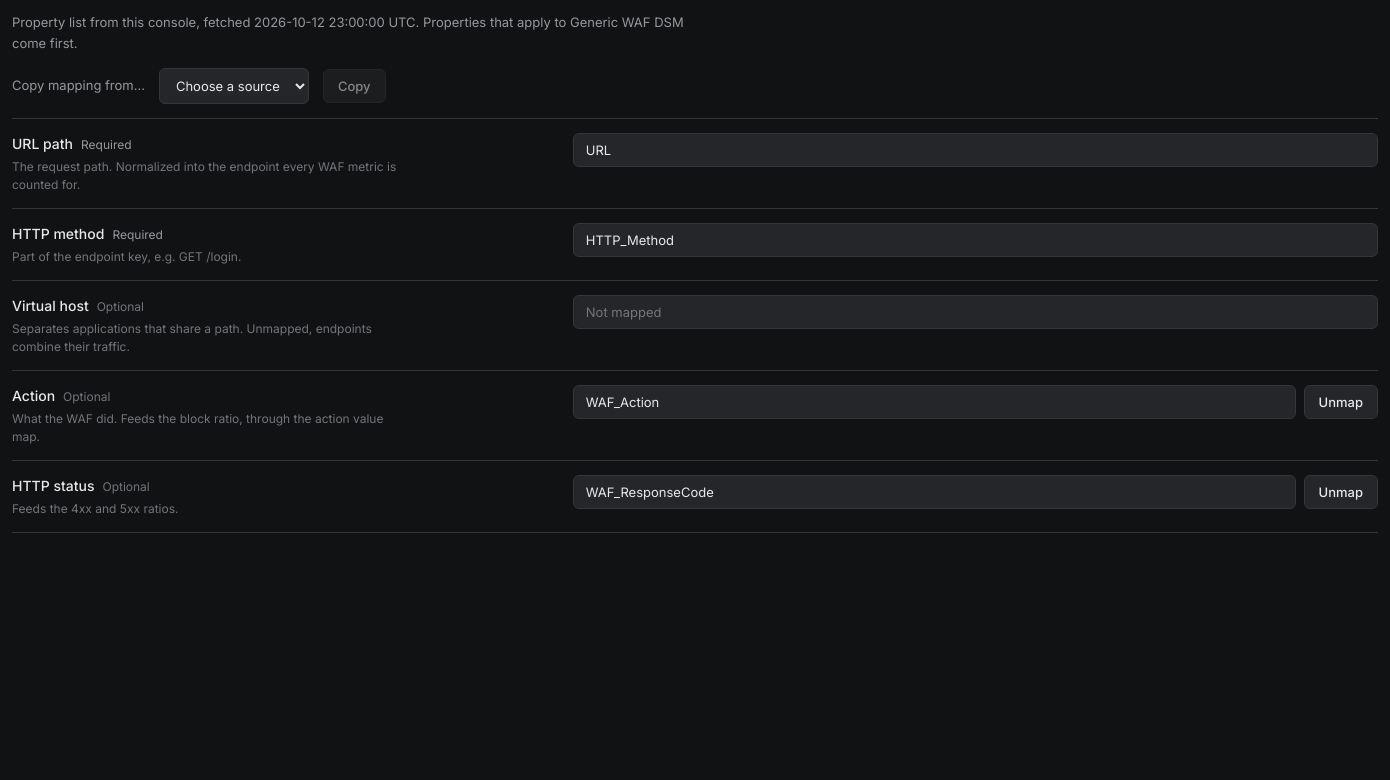
FieldMappingForm › copies a mapping from another source and says nothing is saved yet
The width and height of the screenshot is (1390, 780).
Step 1. Select "WAF b (v2)" in the dropdown labelled "Copy mapping from…" → point(234, 86), box [159,68,309,104]
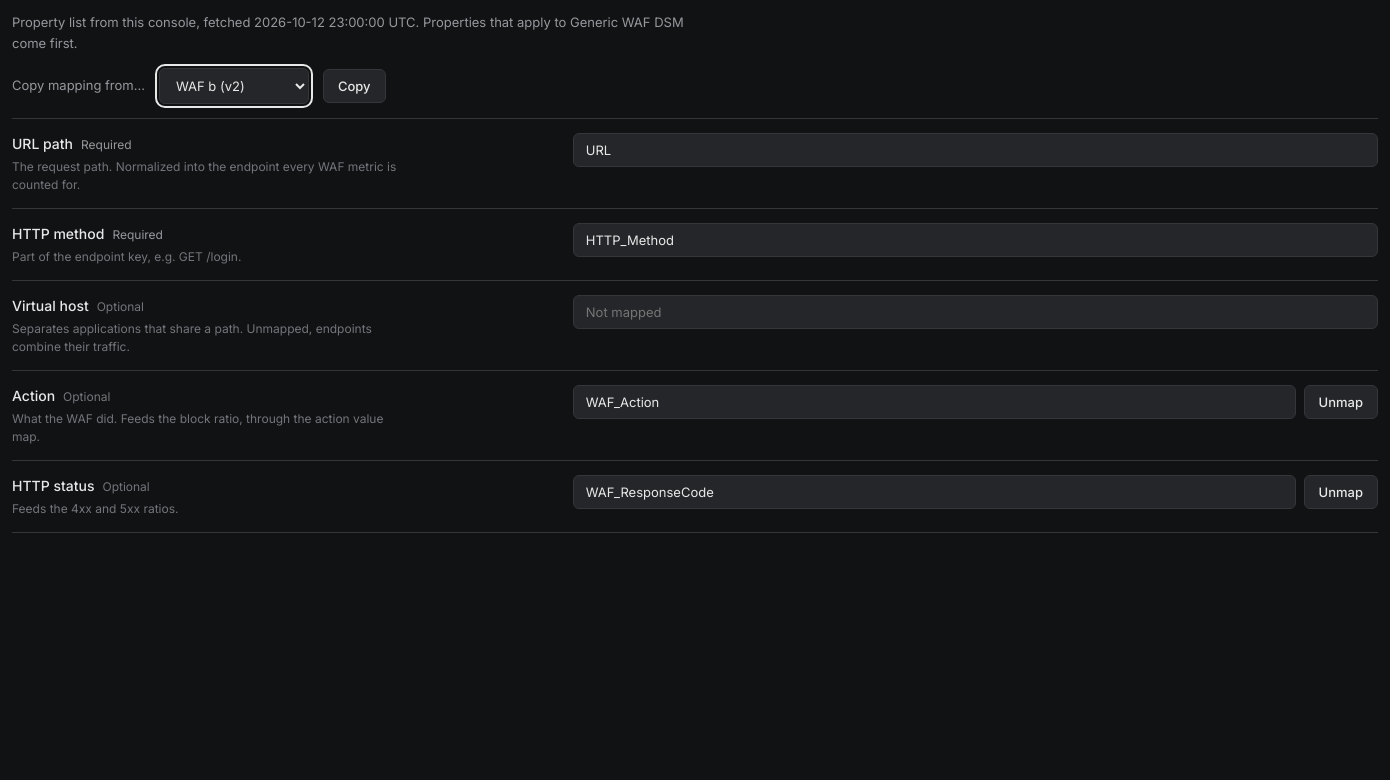
Step 2. Click the button "Copy" → point(354, 86), box [323,69,386,103]
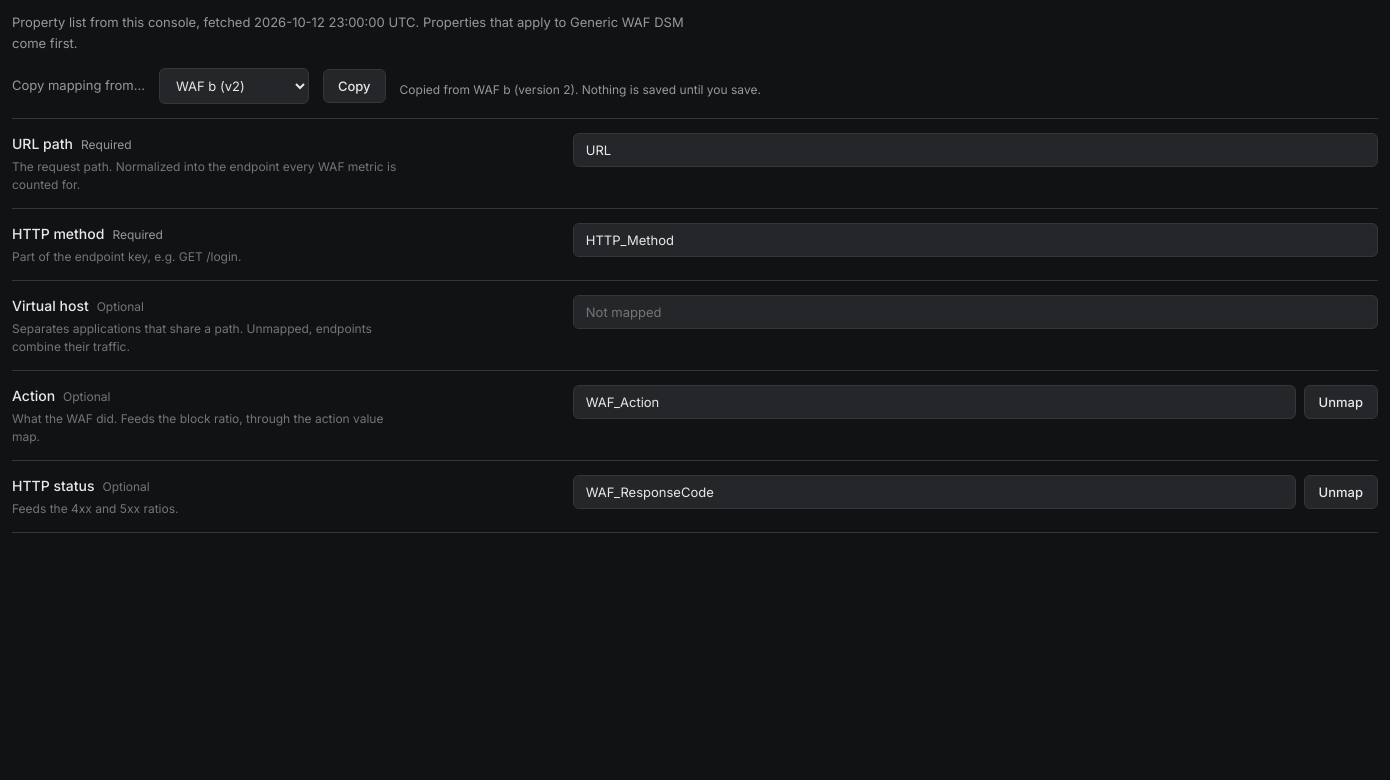
expect the text "Copied from WAF b (version 2). Nothing is saved until you save." is shown: met, box [400,81,761,99]
